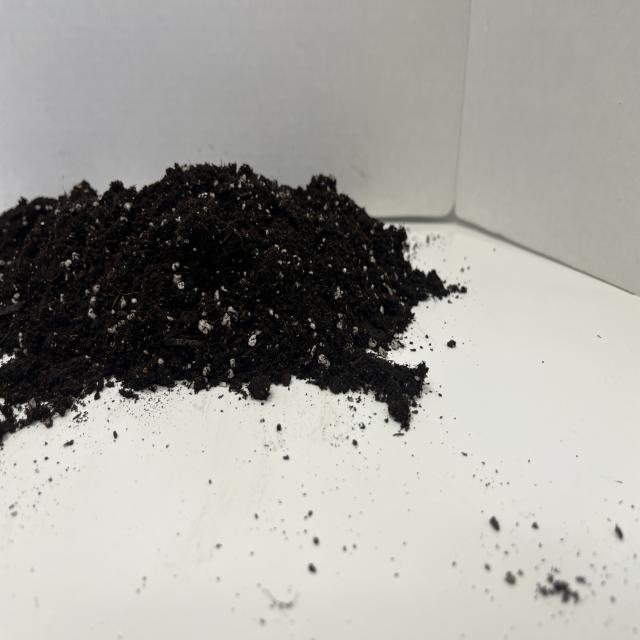soil: (1, 158, 461, 440)
